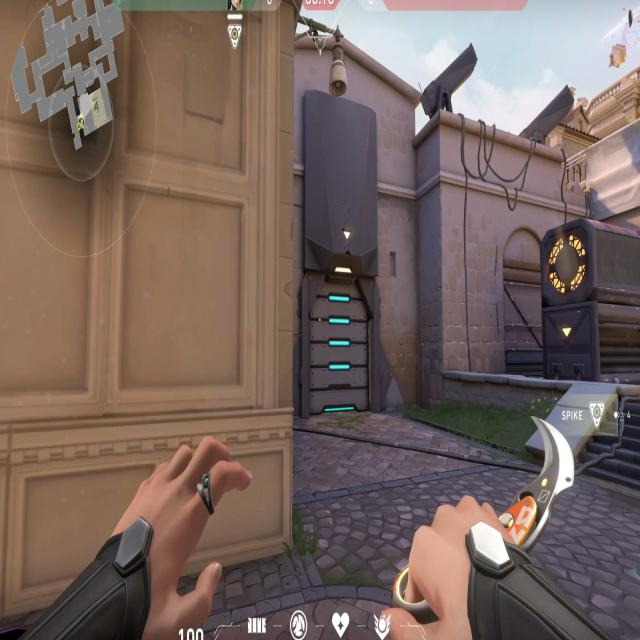A_Door: (296, 246, 380, 424)
